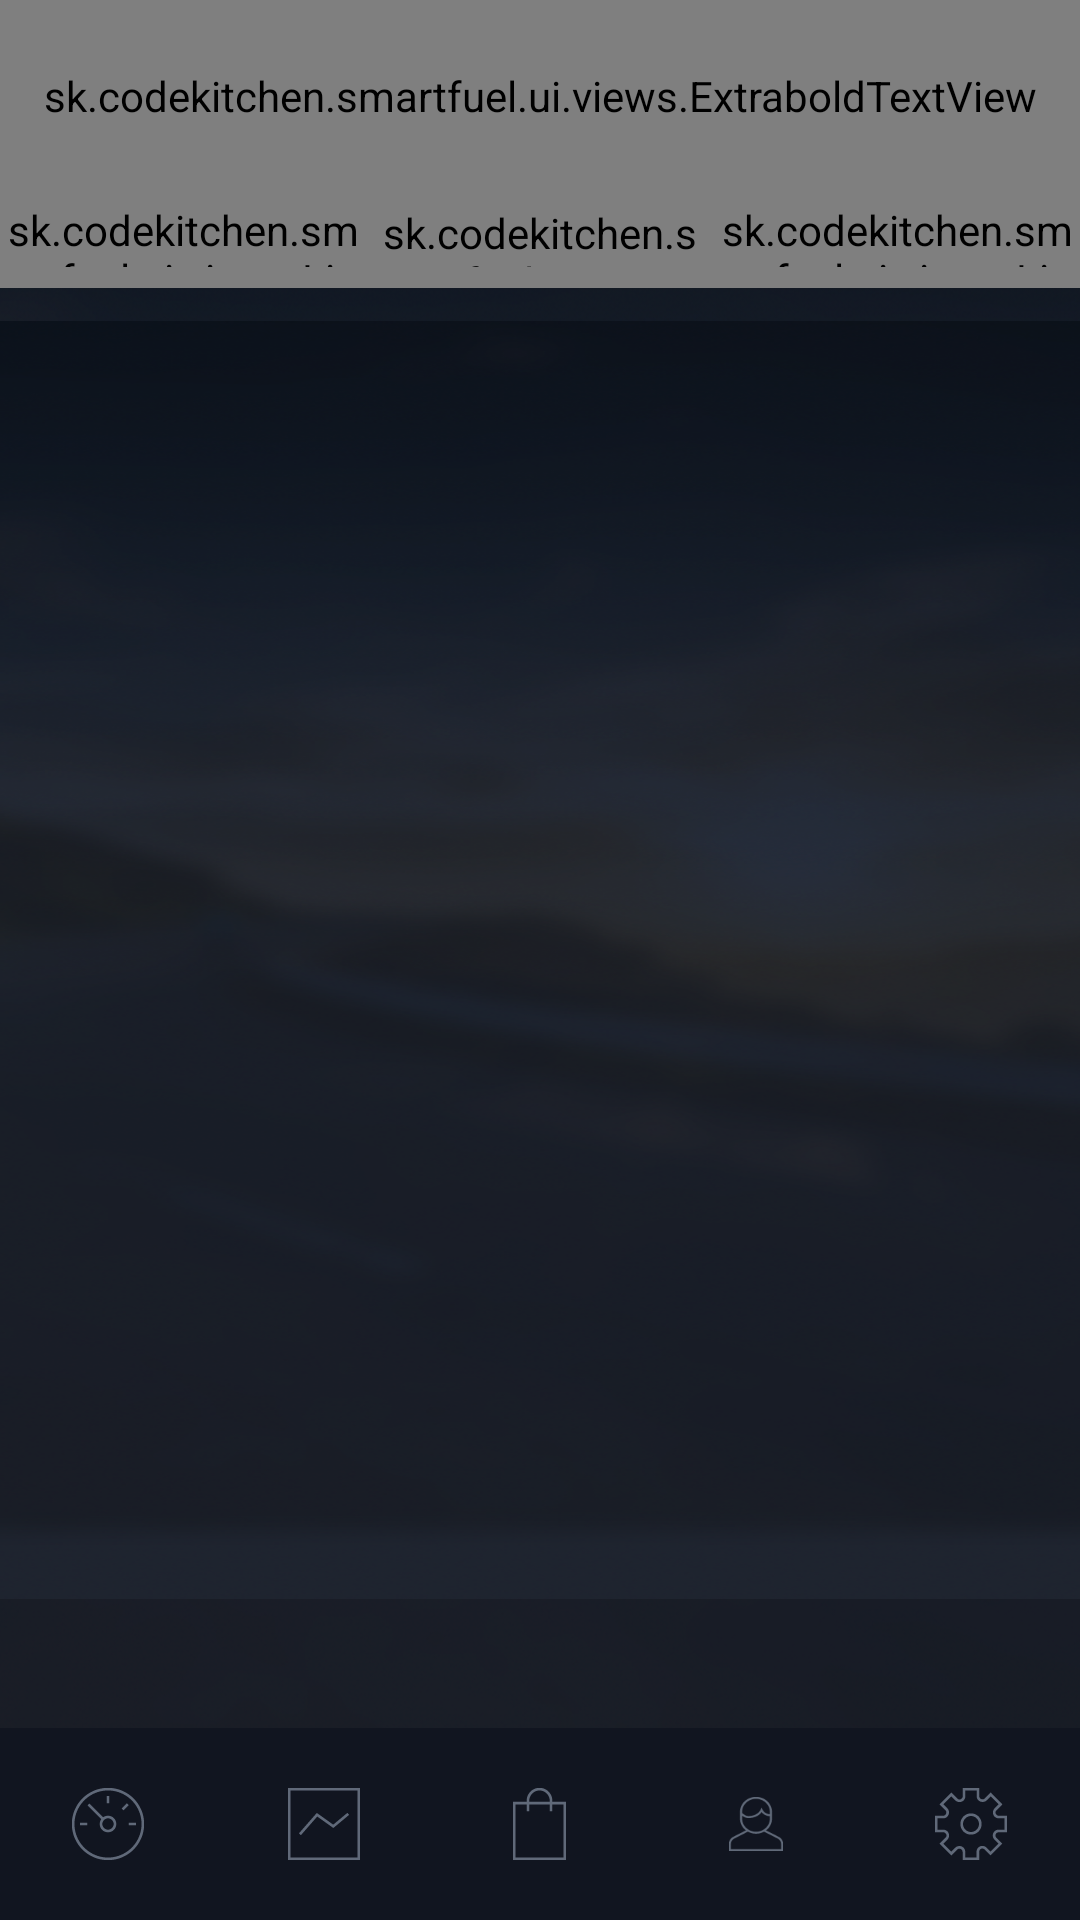

Named icons in this screenshot (1080x1920) and their bounding boxes, BBox(x1, y1, x2, y2):
graph: BBox(288, 1788, 360, 1860)
profile: BBox(729, 1797, 783, 1851)
settings: BBox(935, 1788, 1007, 1860)
shop: BBox(513, 1788, 566, 1860)
speed: BBox(72, 1788, 144, 1860)
